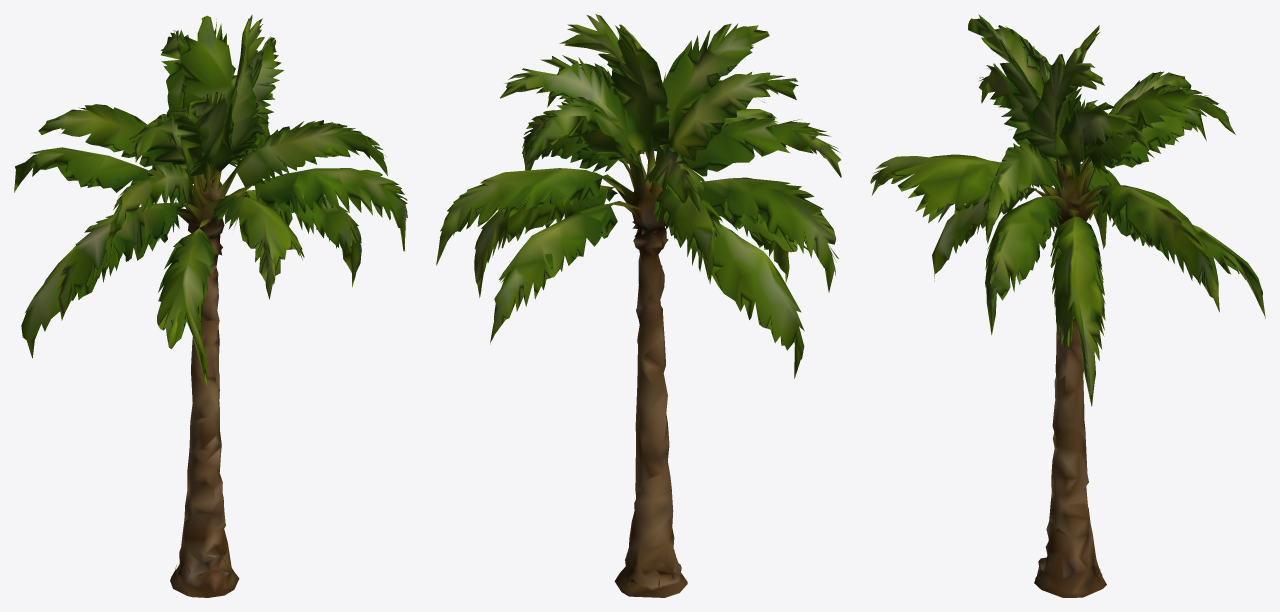
The model's file is palmeira.glb.
3 renders of one model, left to right at view 1: azimuth 30°, elevation 25°; view 2: azimuth 150°, elevation 25°; view 3: azimuth 270°, elevation 25°, orthographic. The views are drawn at different scales.
Bounding box in the file's own units: 0.622 × 0.993 × 0.6297.
